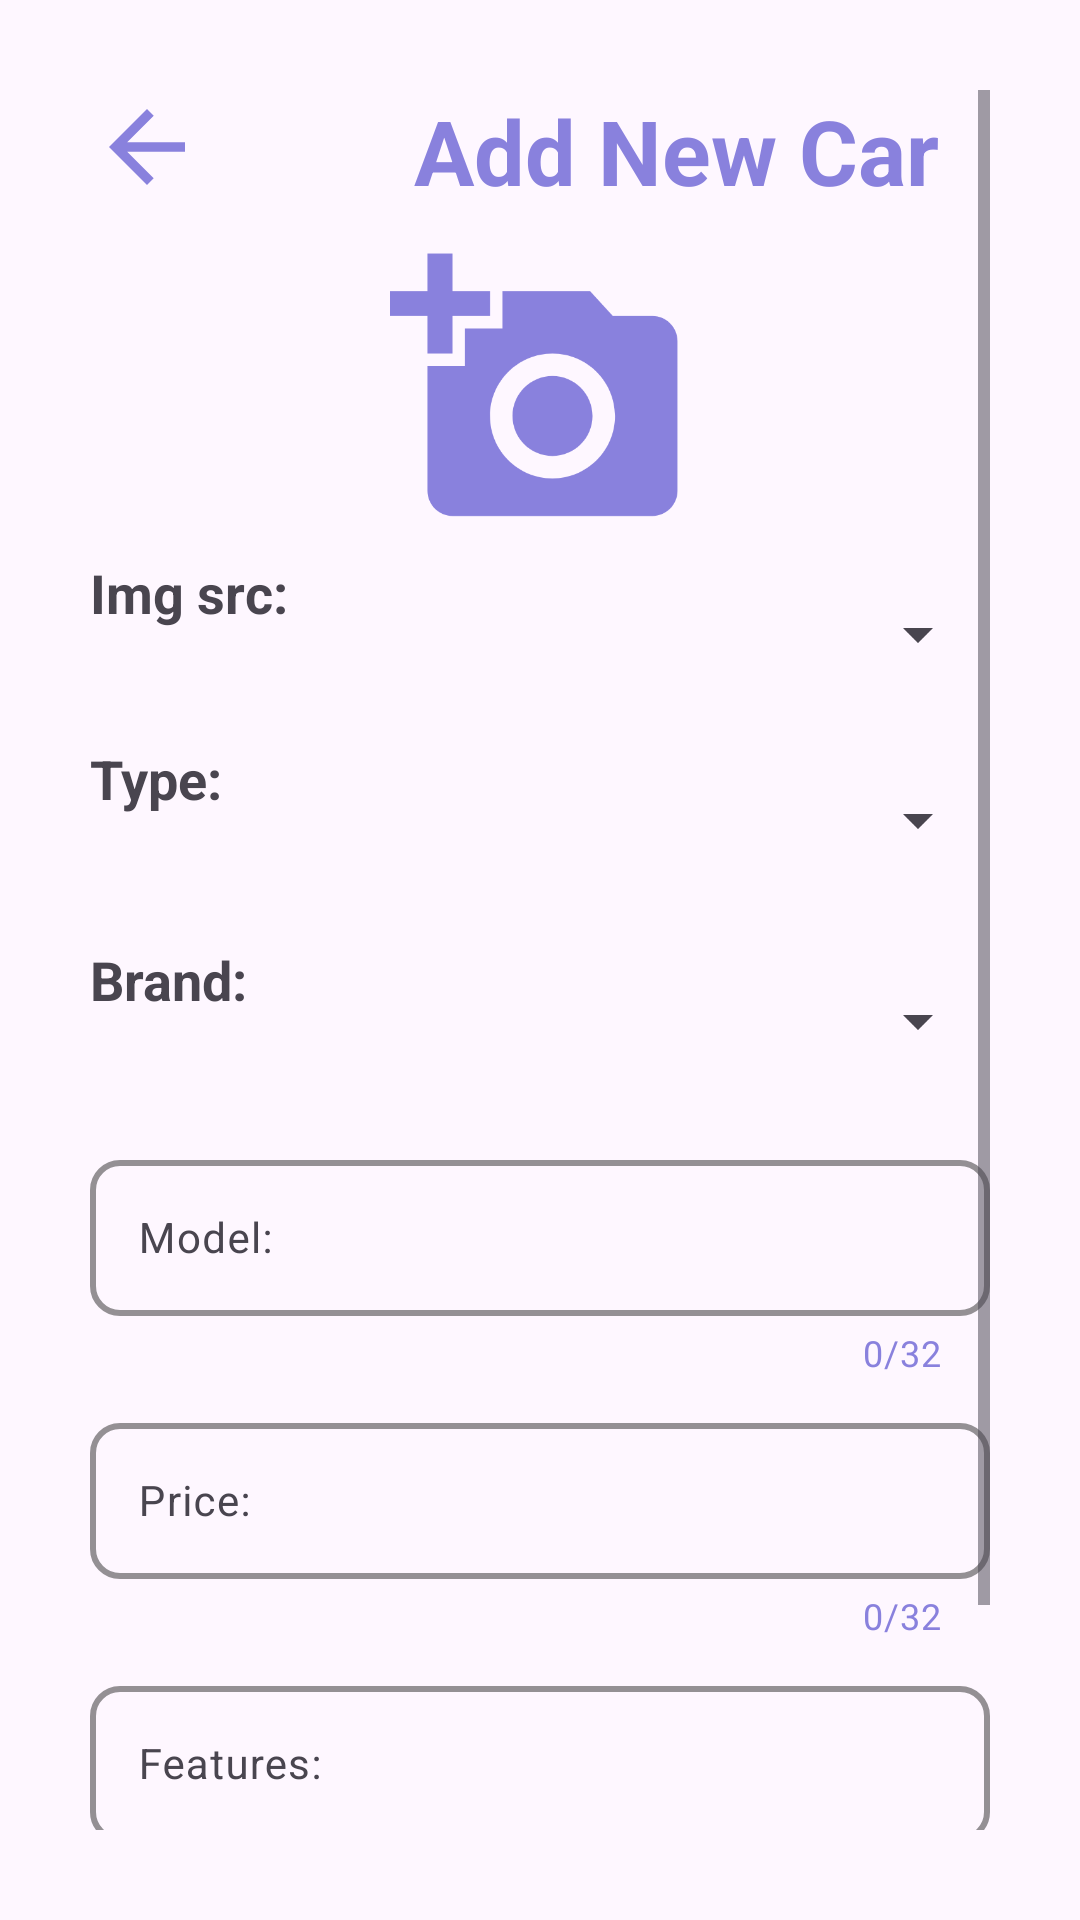

Where icons sit on this 1080×1920 app screen, as (x1, y1, x2, y2):
arrow back: (109, 109, 185, 185)
